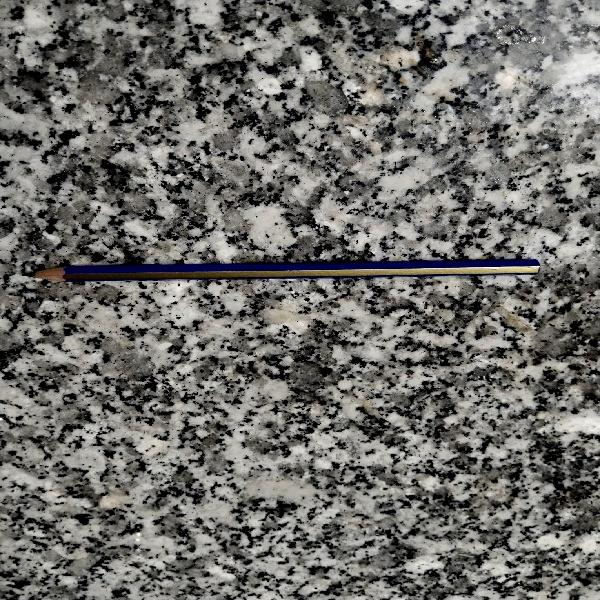pencil: (21, 256, 547, 287)
